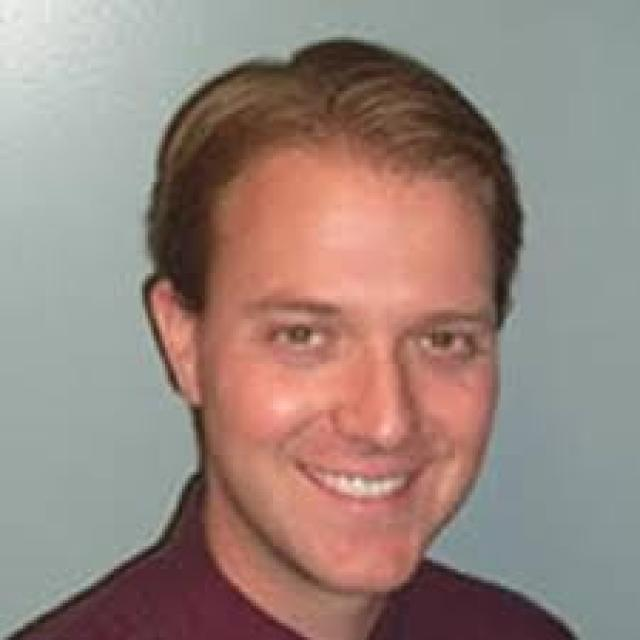normal_face: (164, 30, 586, 614)
